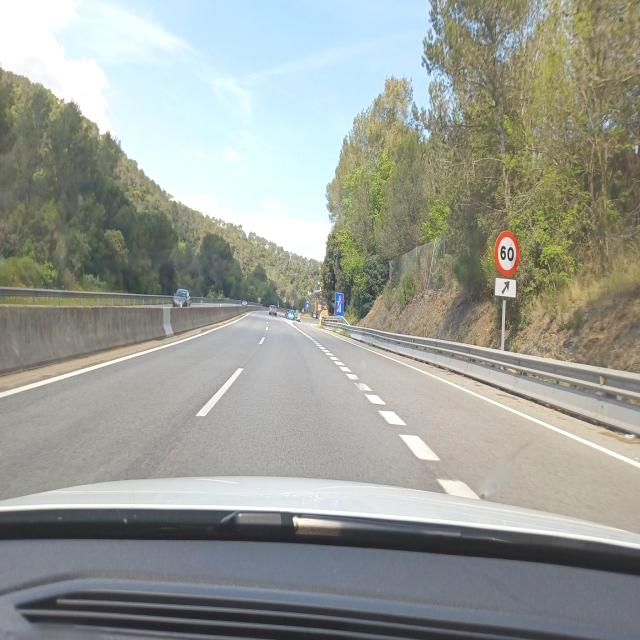car: (173, 288, 190, 306), (268, 306, 278, 316), (286, 309, 294, 321)
